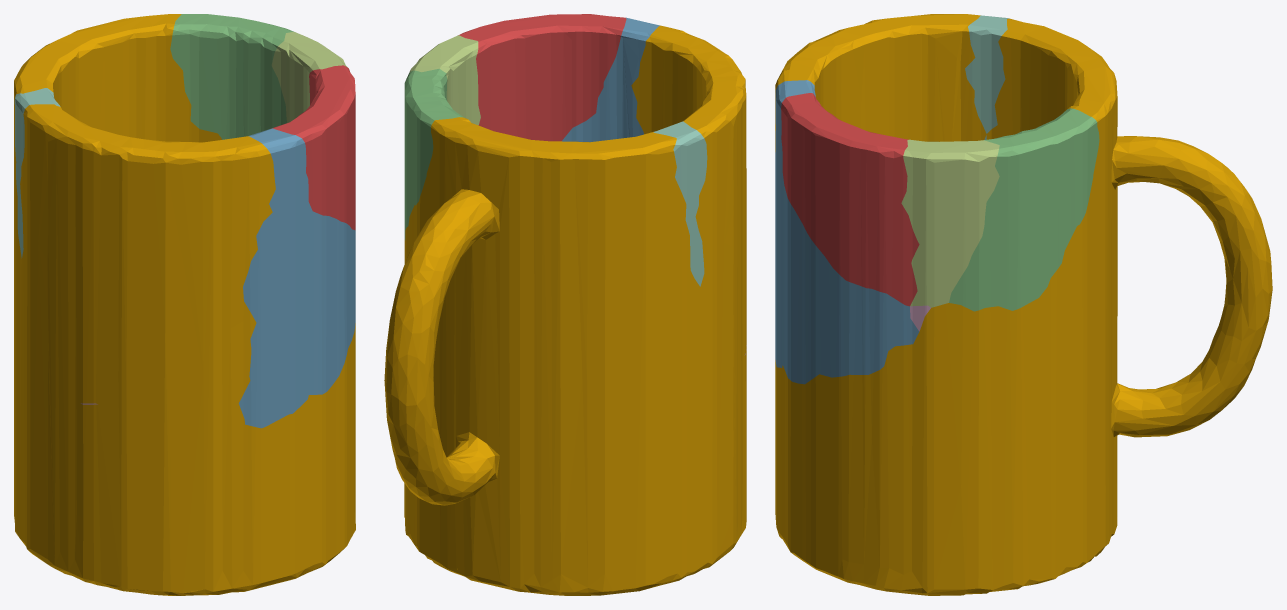
The model's file is fractured_26_8pcs.glb.
3 views of the same model, side by side, from view 1: azimuth 30°, elevation 25°; view 2: azimuth 150°, elevation 25°; view 3: azimuth 270°, elevation 25° (orthographic).
Parts seen in each view (by area): view 1: piece_0.obj, piece_2.obj, piece_3.obj, piece_1.obj, piece_5.obj, piece_4.obj; view 2: piece_0.obj, piece_1.obj, piece_2.obj, piece_3.obj, piece_4.obj, piece_5.obj; view 3: piece_0.obj, piece_1.obj, piece_3.obj, piece_2.obj, piece_5.obj, piece_4.obj.
Boxes of the visible parts, bbox=[...] form: piece_0.obj: bbox=[14, 14, 355, 595]; piece_2.obj: bbox=[238, 128, 355, 428]; piece_3.obj: bbox=[170, 14, 293, 139]; piece_1.obj: bbox=[271, 65, 355, 230]; piece_5.obj: bbox=[271, 32, 347, 122]; piece_4.obj: bbox=[14, 88, 60, 258]; piece_0.obj: bbox=[384, 25, 746, 595]; piece_1.obj: bbox=[458, 14, 626, 141]; piece_2.obj: bbox=[562, 17, 659, 142]; piece_3.obj: bbox=[404, 68, 464, 240]; piece_4.obj: bbox=[653, 121, 707, 286]; piece_5.obj: bbox=[409, 35, 480, 125]; piece_0.obj: bbox=[775, 14, 1272, 595]; piece_1.obj: bbox=[781, 93, 919, 306]; piece_3.obj: bbox=[949, 108, 1099, 311]; piece_2.obj: bbox=[775, 80, 919, 384]; piece_5.obj: bbox=[901, 139, 999, 307]; piece_4.obj: bbox=[965, 15, 1009, 139].
Bounding box in the file's own units: 0.6884 × 0.9844 × 1.
